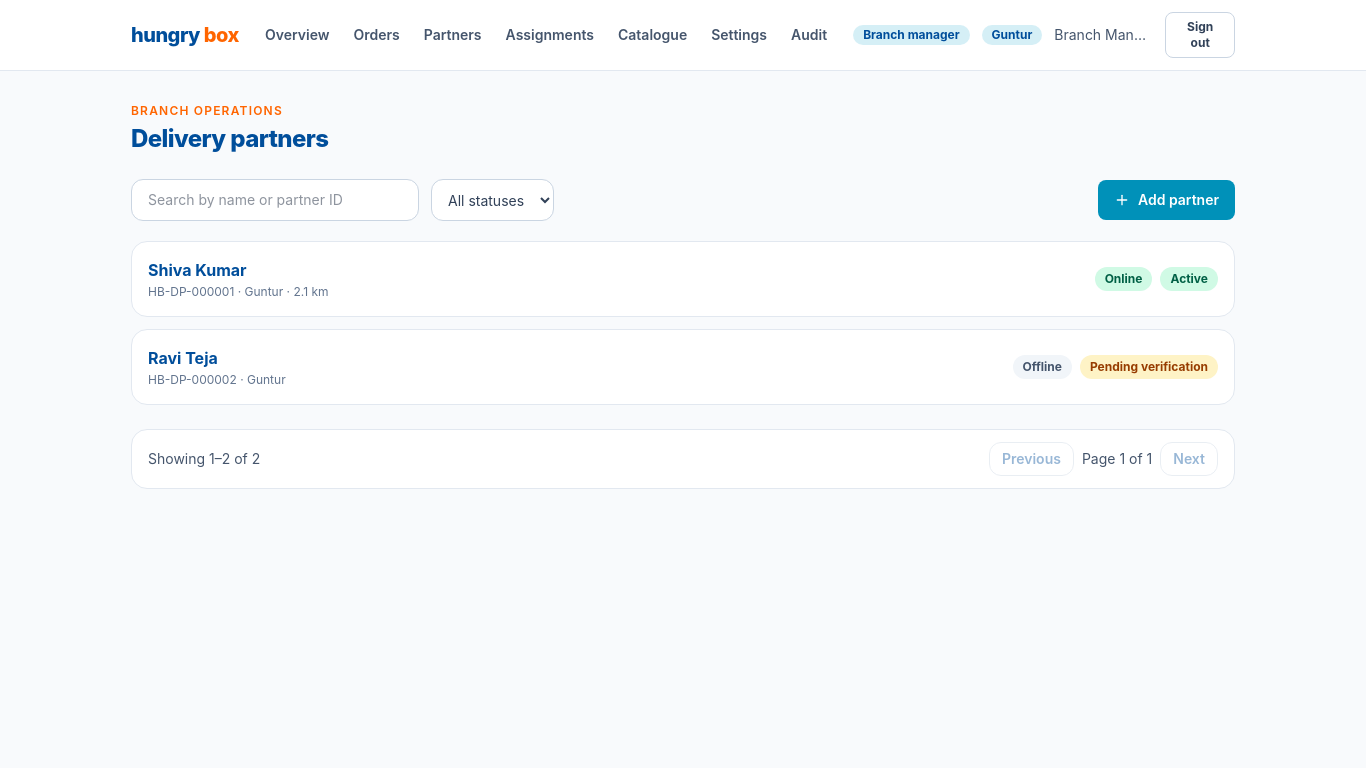
Test: manager partner list › surfaces a duplicate-login error within the dialog
Expected: the text "Shiva Kumar" is shown, [148,260,247,280]
Click the button "Add partner".
click(1166, 200)  # box [1098,180,1235,220]
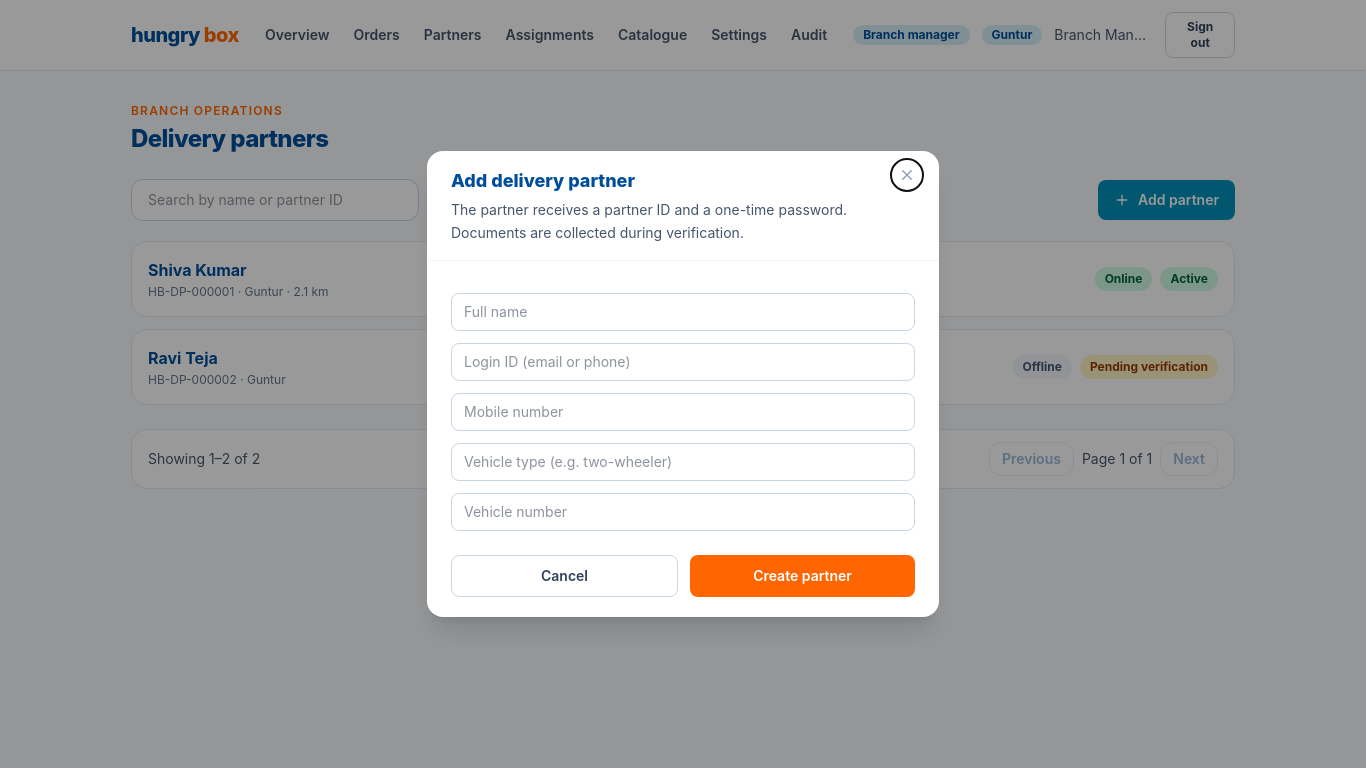
Type "Sai Kumar" into the field labelled "Full name".
click(683, 312); type("Sai Kumar")  # box [451,293,915,331]
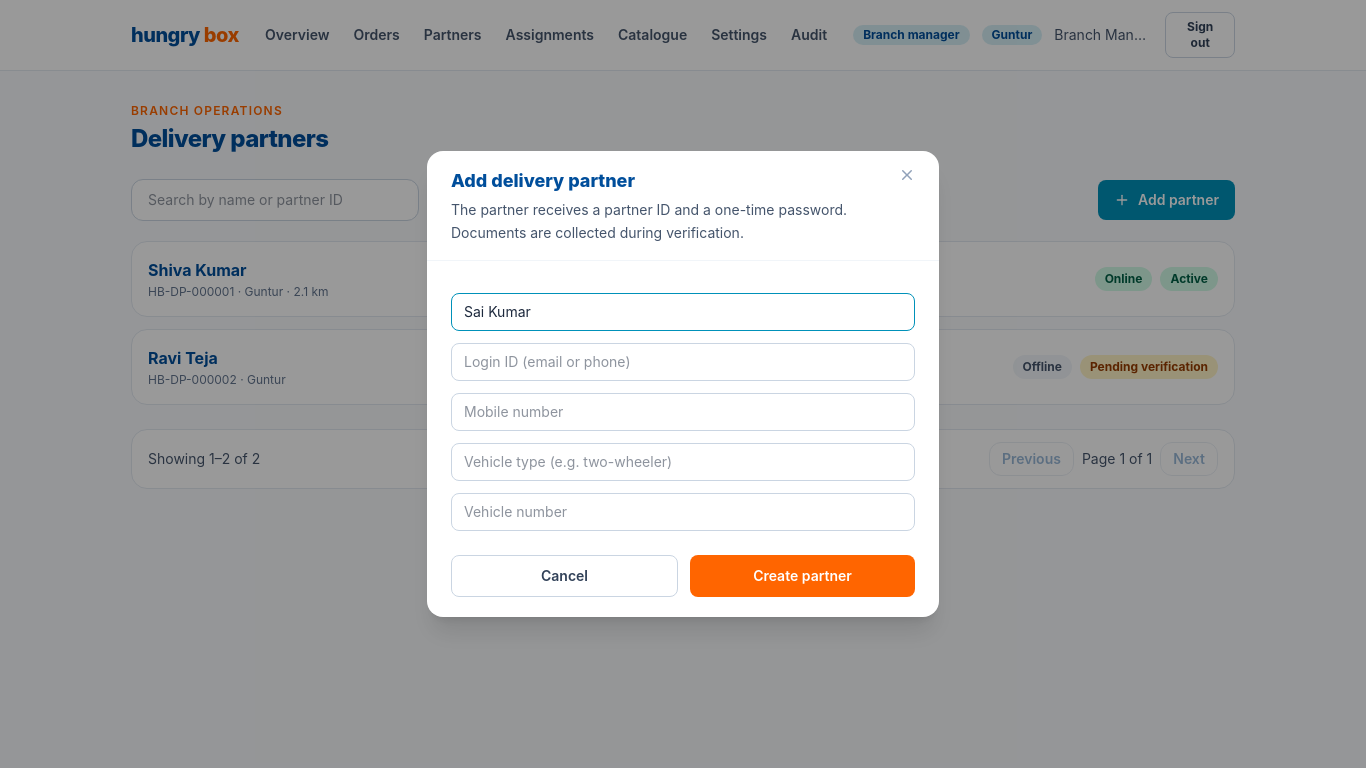
Type "shiva@" into the field labelled "Login ID (email or phone)".
click(683, 362); type("shiva@")  # box [451,343,915,381]
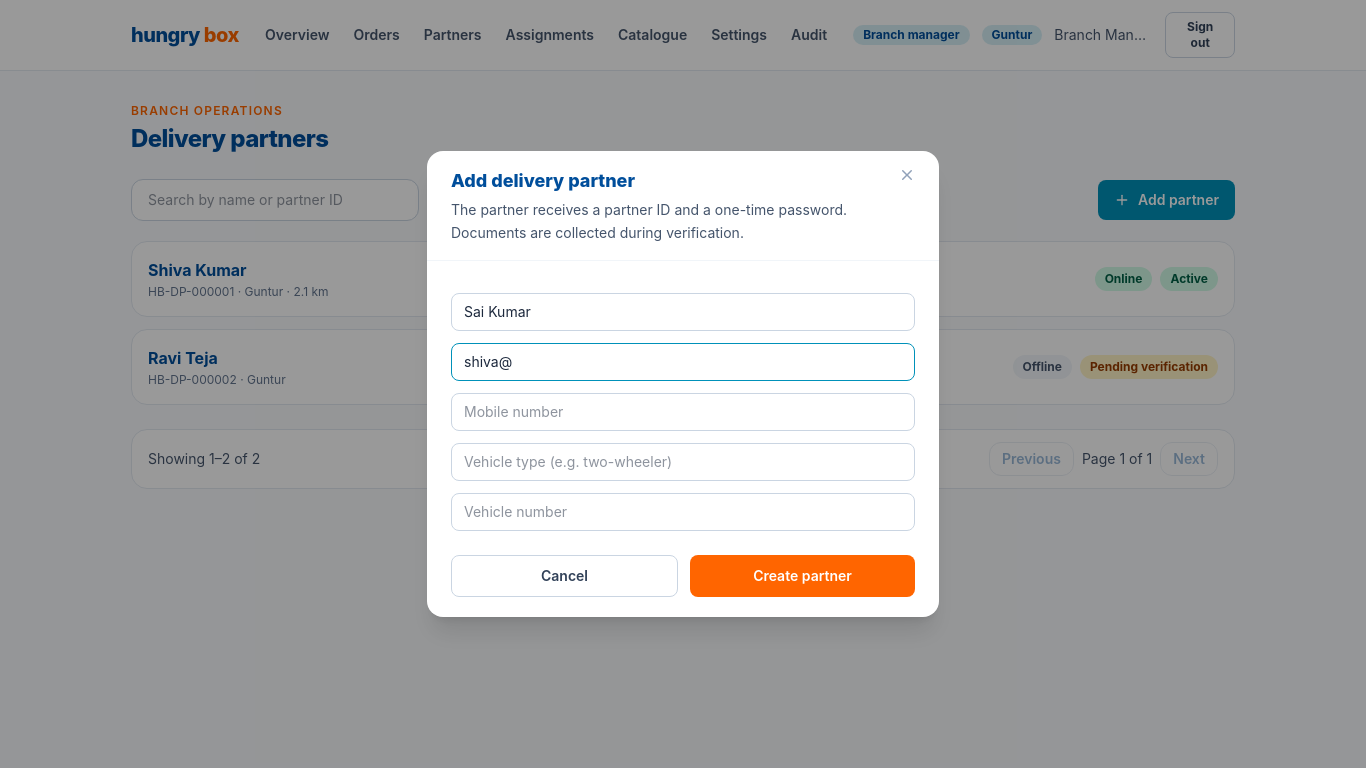
Click the button "Create partner".
click(802, 576)  # box [690,555,915,597]
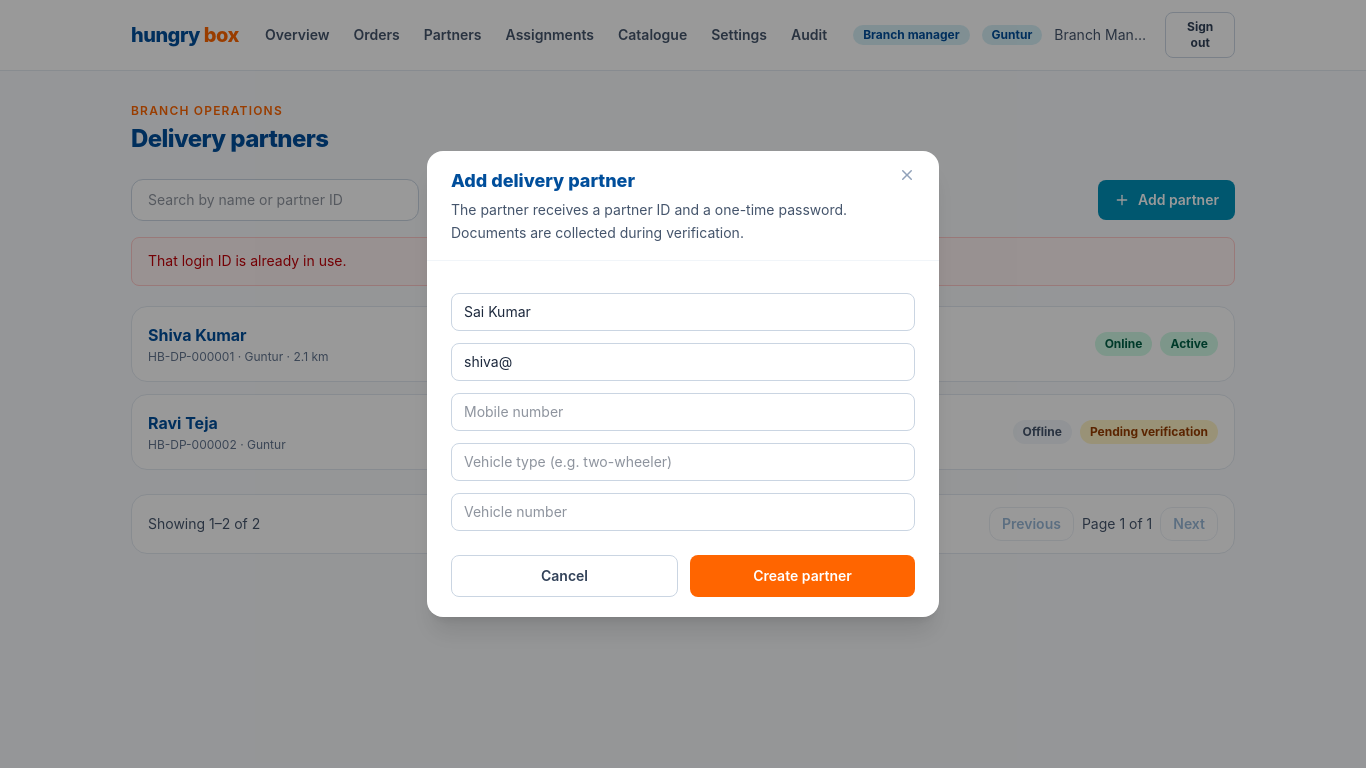
Now the dialog is shown, box [427,151,939,617]
Now the text "That login ID is already in use." is shown, box [131,237,1235,286]
